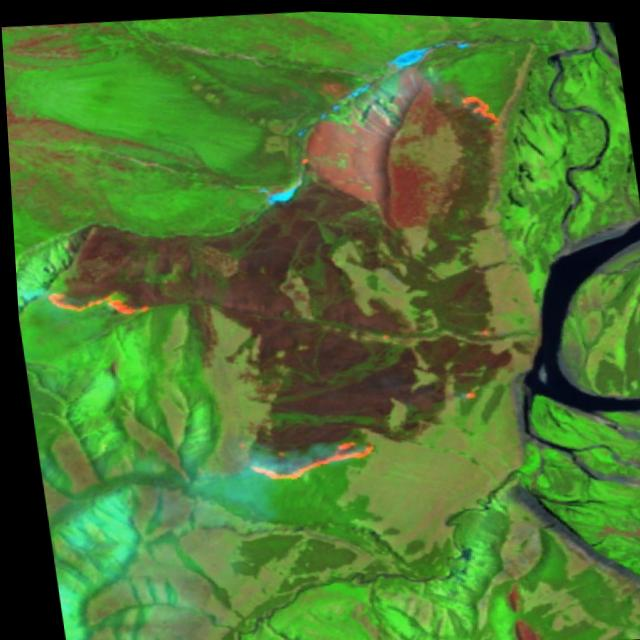fire: (219, 424, 387, 498), (29, 274, 166, 349), (442, 79, 510, 130)
